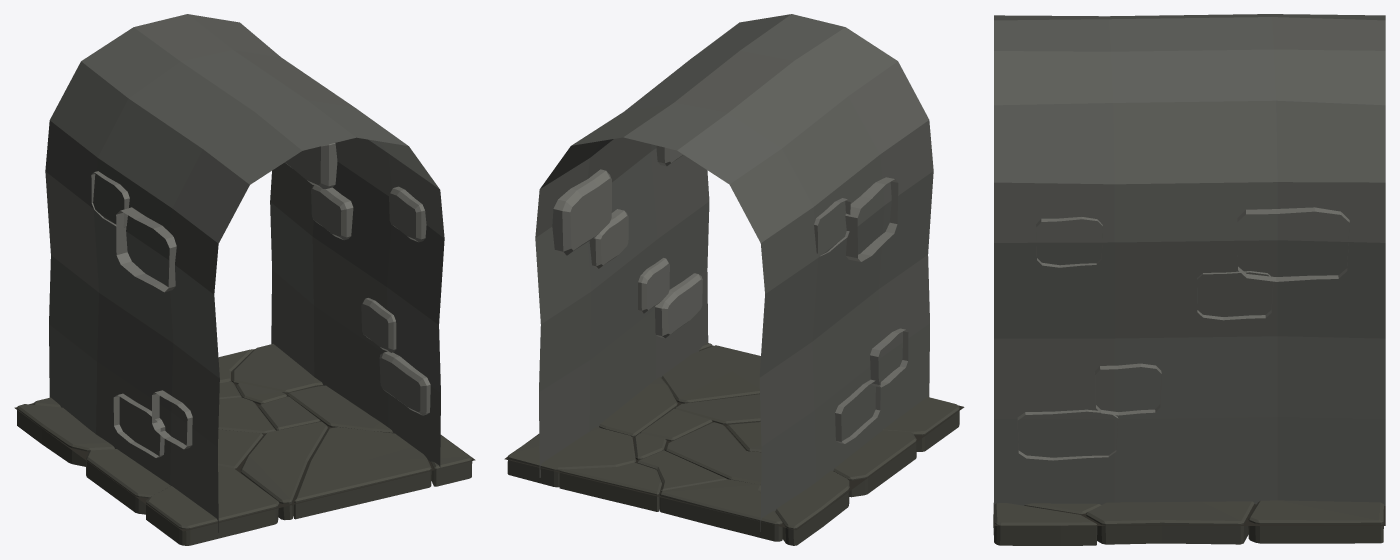
The model's file is Hallway_Half.glb.
3 renders of one model, left to right at view 1: azimuth 30°, elevation 25°; view 2: azimuth 150°, elevation 25°; view 3: azimuth 270°, elevation 25°, orthographic. The views are drawn at different scales.
Parts seen in each view (by area): view 1: Hallway_Half; view 2: Hallway_Half; view 3: Hallway_Half.
Part boxes in pixels (<box>): Hallway_Half: <box>14,14,475,545</box>; Hallway_Half: <box>504,14,964,545</box>; Hallway_Half: <box>993,14,1385,545</box>.
Size of the model in its own units: 2 by 2.42 by 2.
2 materials, 2 textured.
